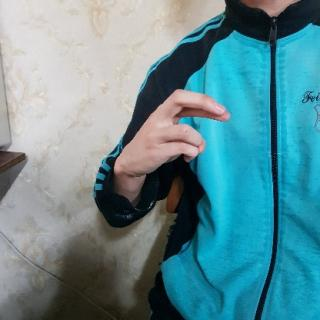ZAY: (117, 87, 235, 179)
